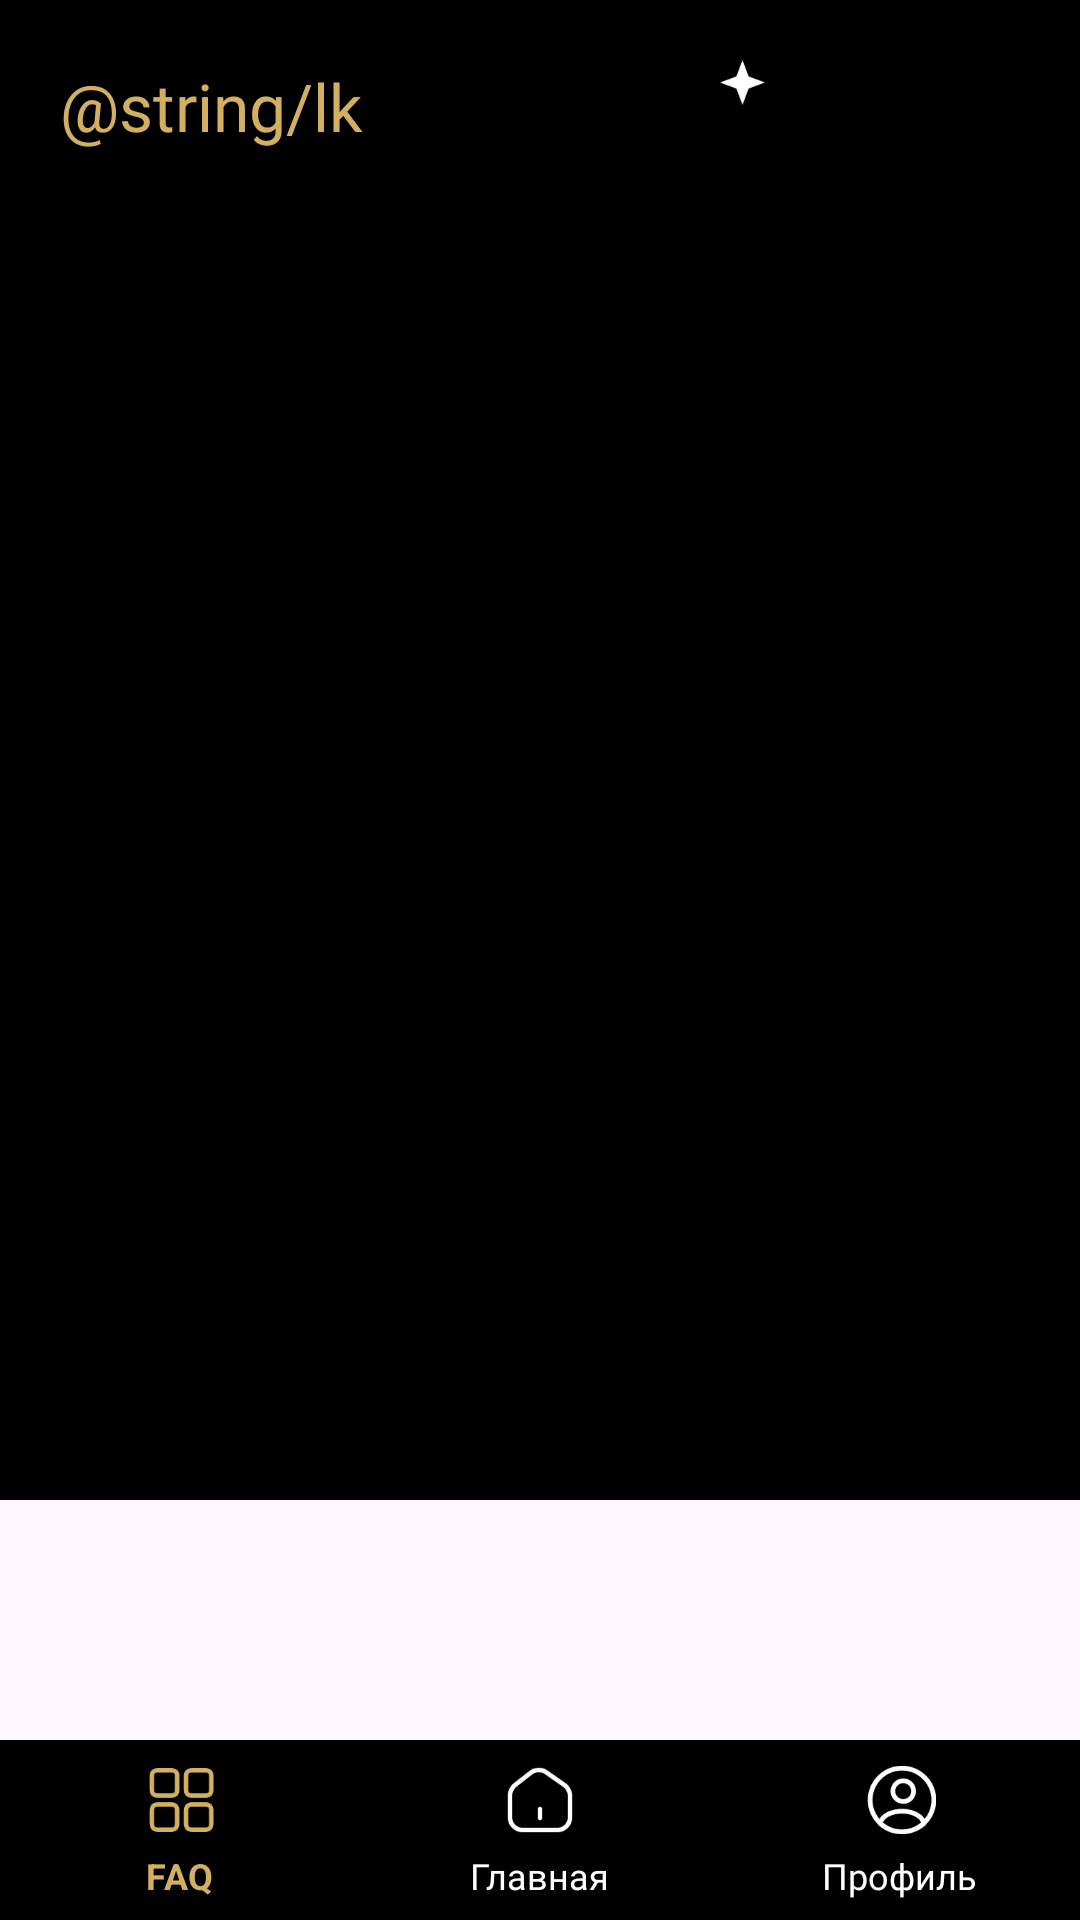

Icon bounding boxes for this 1080*1920 phone screenshot, format (x1, y1, x2, y2):
star: (720, 60, 765, 105)
